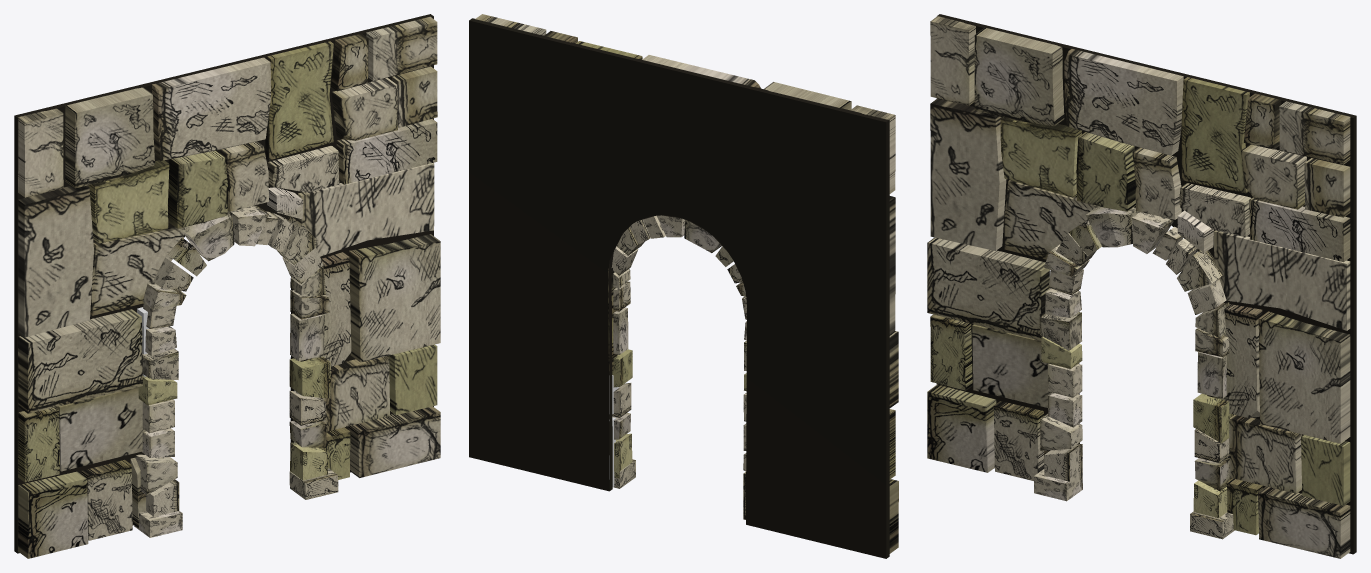
Rendered from stone_doorframe.glb.
3 views of the same model, side by side, from view 1: azimuth 30°, elevation 25°; view 2: azimuth 150°, elevation 25°; view 3: azimuth 330°, elevation 25° (orthographic).
Visible parts, largest first — view 1: Stone Wall_Door; view 2: Stone Wall_Door; view 3: Stone Wall_Door.
Part boxes in pixels (x1,y1,x2,y2): Stone Wall_Door: [14, 14, 440, 558]; Stone Wall_Door: [469, 14, 898, 558]; Stone Wall_Door: [927, 14, 1356, 558].
Bounding box in the file's own units: 2 × 2.01 × 0.1733.
1 material, 1 textured.
